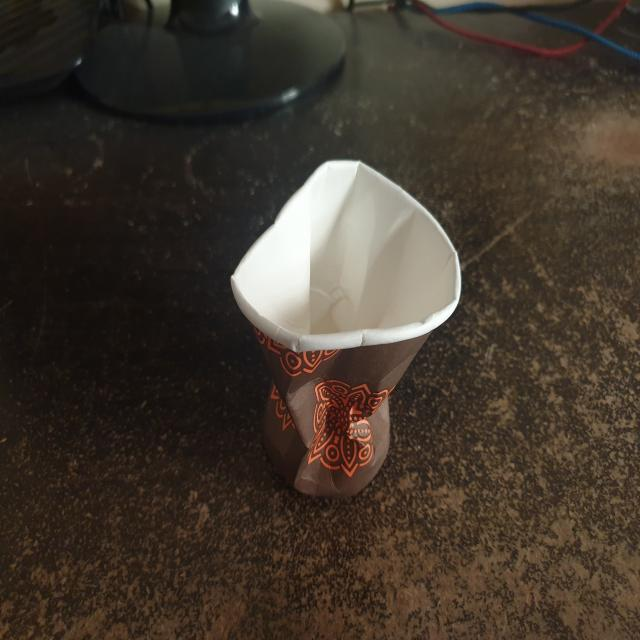cups: (228, 153, 474, 506)
